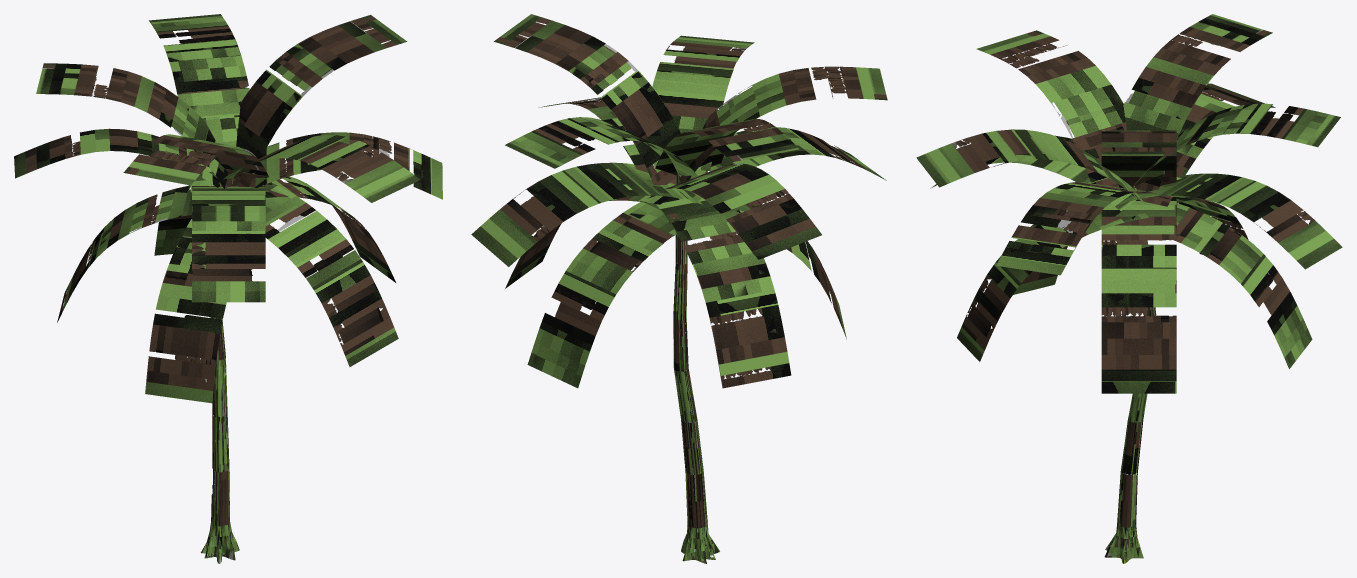
Rendered from tree.obj.
3 renders of one model, left to right at view 1: azimuth 30°, elevation 25°; view 2: azimuth 150°, elevation 25°; view 3: azimuth 270°, elevation 25°, orthographic. The views are drawn at different scales.
Visible parts, largest first — view 1: Mesh_Mesh.010_Mesh5_palmtr; view 2: Mesh_Mesh.010_Mesh5_palmtr; view 3: Mesh_Mesh.010_Mesh5_palmtr.
Boxes of the visible parts, bbox=[...] form: Mesh_Mesh.010_Mesh5_palmtr: bbox=[14, 14, 442, 563]; Mesh_Mesh.010_Mesh5_palmtr: bbox=[471, 14, 887, 563]; Mesh_Mesh.010_Mesh5_palmtr: bbox=[916, 14, 1342, 563].
Bounding box in the file's own units: 2.47 × 3.2 × 2.54.
